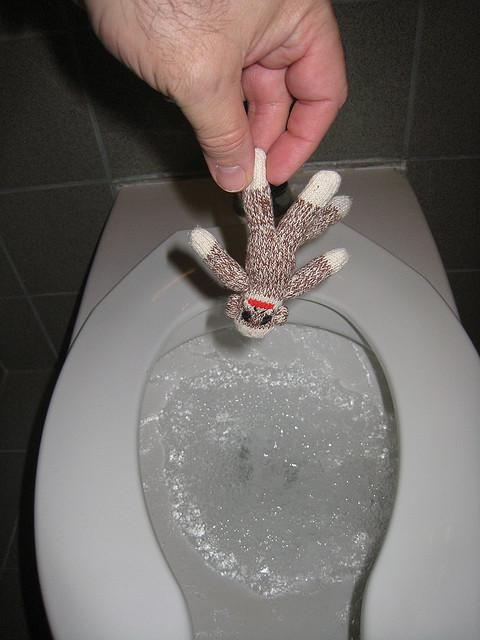hand: (90, 0, 384, 195)
